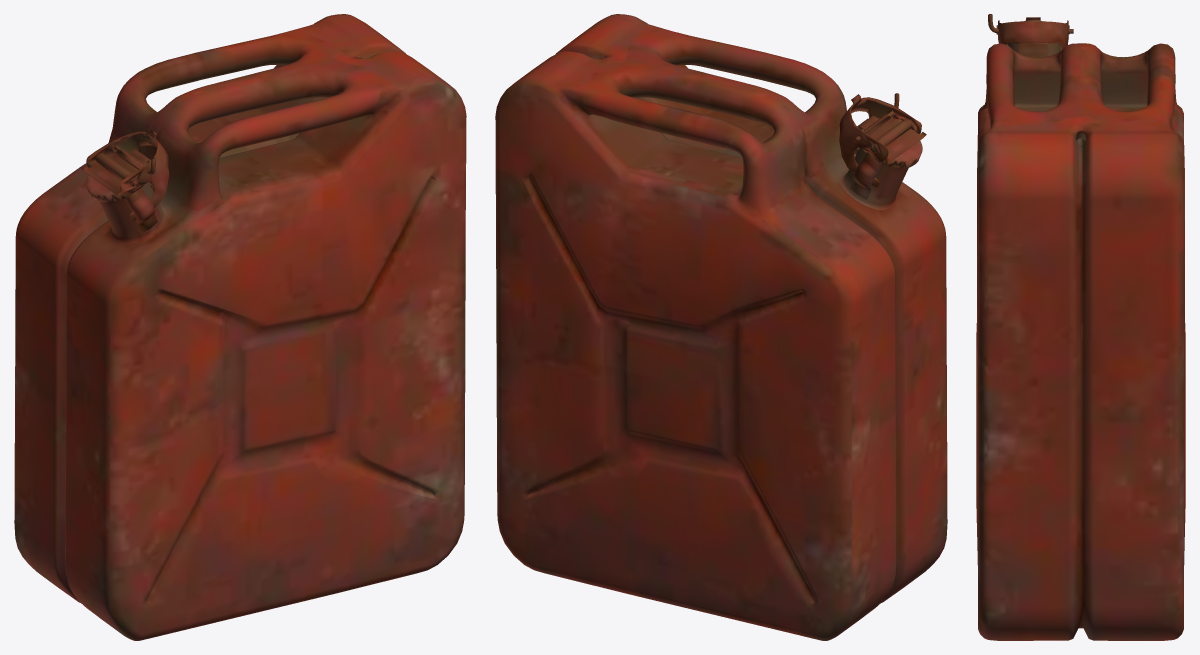
File: metal_jerrycan.f410e1e3.glb
3 views of the same model, side by side, from view 1: azimuth 30°, elevation 25°; view 2: azimuth 150°, elevation 25°; view 3: azimuth 270°, elevation 25° (orthographic). The views are drawn at different scales.
Visible parts, largest first — view 1: metal_jerrycan; view 2: metal_jerrycan; view 3: metal_jerrycan.
Boxes of the visible parts, box(x1,y1,x2,y2) form: metal_jerrycan: box(14, 14, 466, 640); metal_jerrycan: box(495, 14, 947, 640); metal_jerrycan: box(976, 14, 1185, 640).
Size of the model in its own units: 0.3503 by 0.4552 by 0.1718.
1 material, 1 textured.
